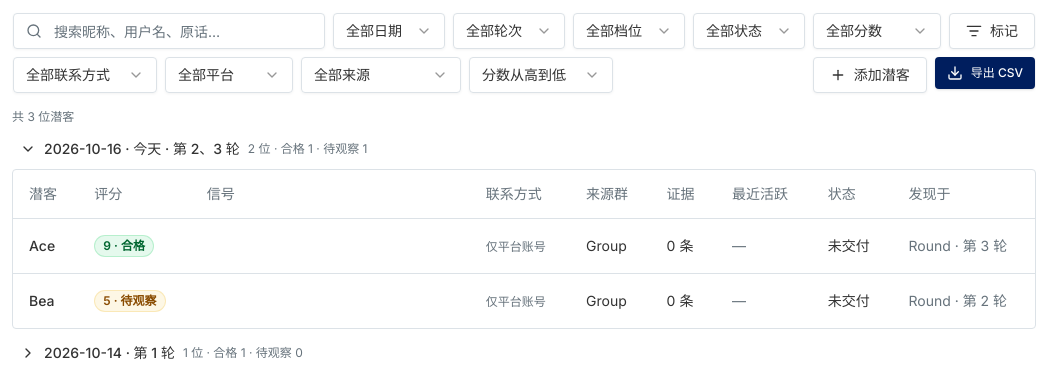
Test: FlowLeads › keeps only what was found today
Press ArrowDown in the dropdown named "发现日期", box top-left (333, 13), bottom-right (445, 49)
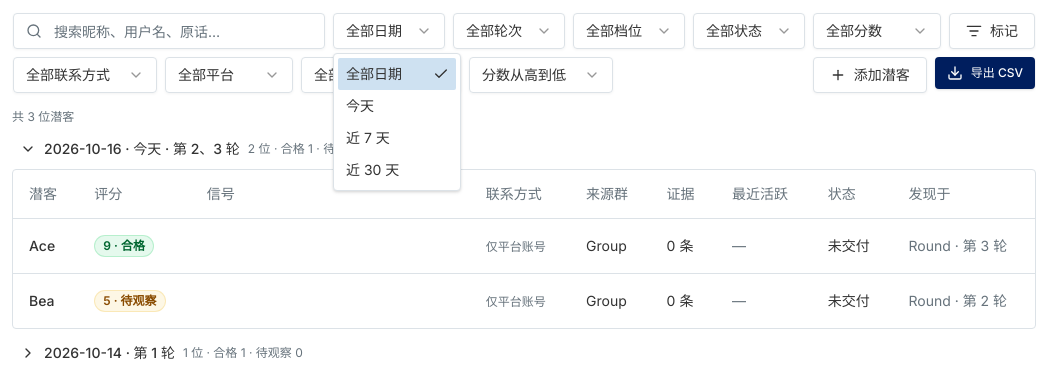
Click the option "今天".
click(360, 106)  # box top-left (346, 97), bottom-right (374, 114)
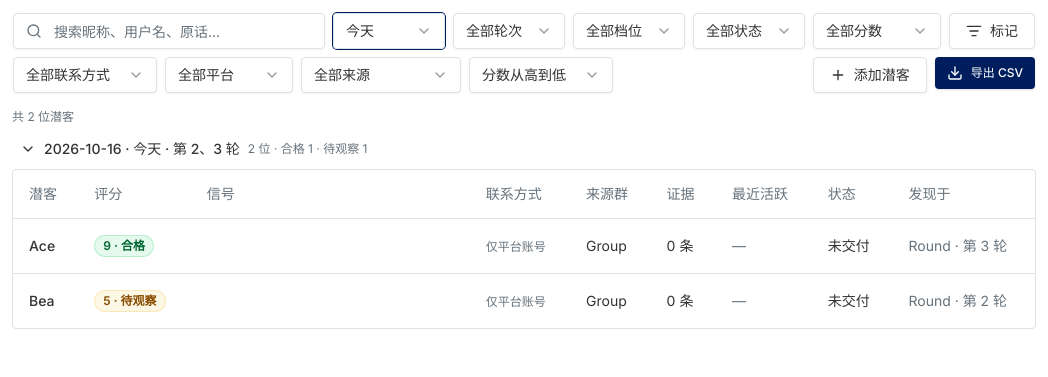
Now the button "2026-10-14" is gone
Now the text "共 2 位潜客" is shown, box top-left (12, 109), bottom-right (74, 124)
